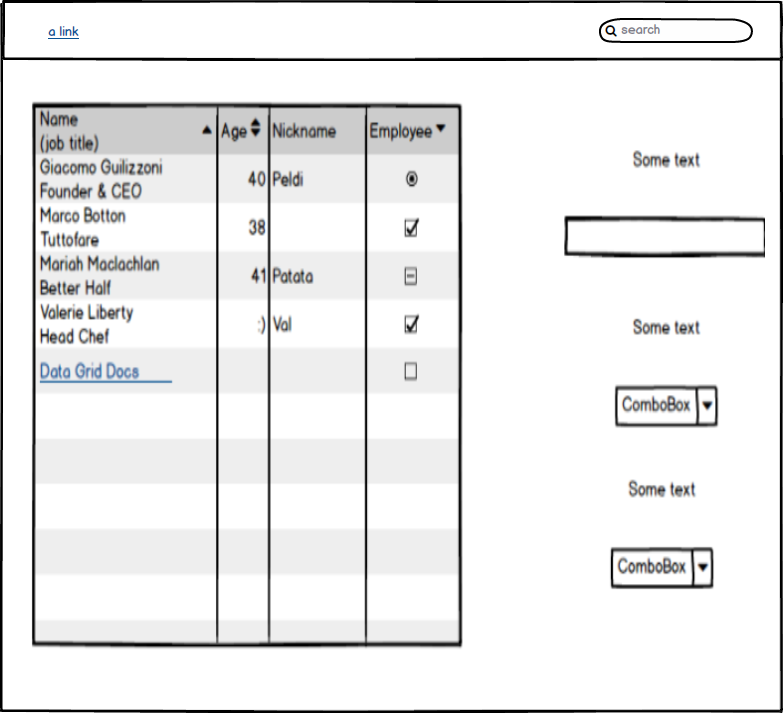input: (556, 210, 772, 266)
label: (624, 311, 715, 345), (616, 474, 703, 505), (624, 144, 715, 172)
navlink: (42, 20, 85, 45)
search: (592, 12, 754, 46)
select_box: (605, 543, 721, 596), (610, 382, 723, 430)
table: (29, 96, 467, 656)
